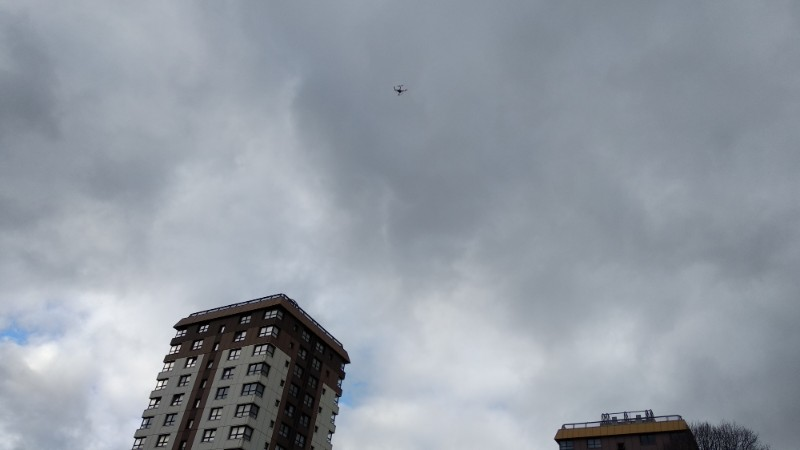drone: (393, 84, 408, 97)
